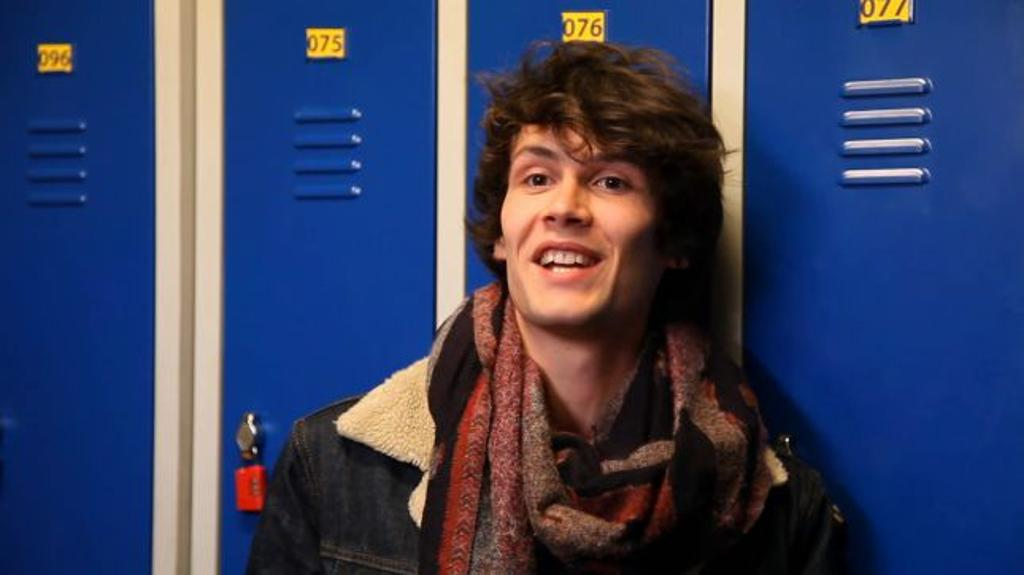face: (506, 104, 652, 322)
